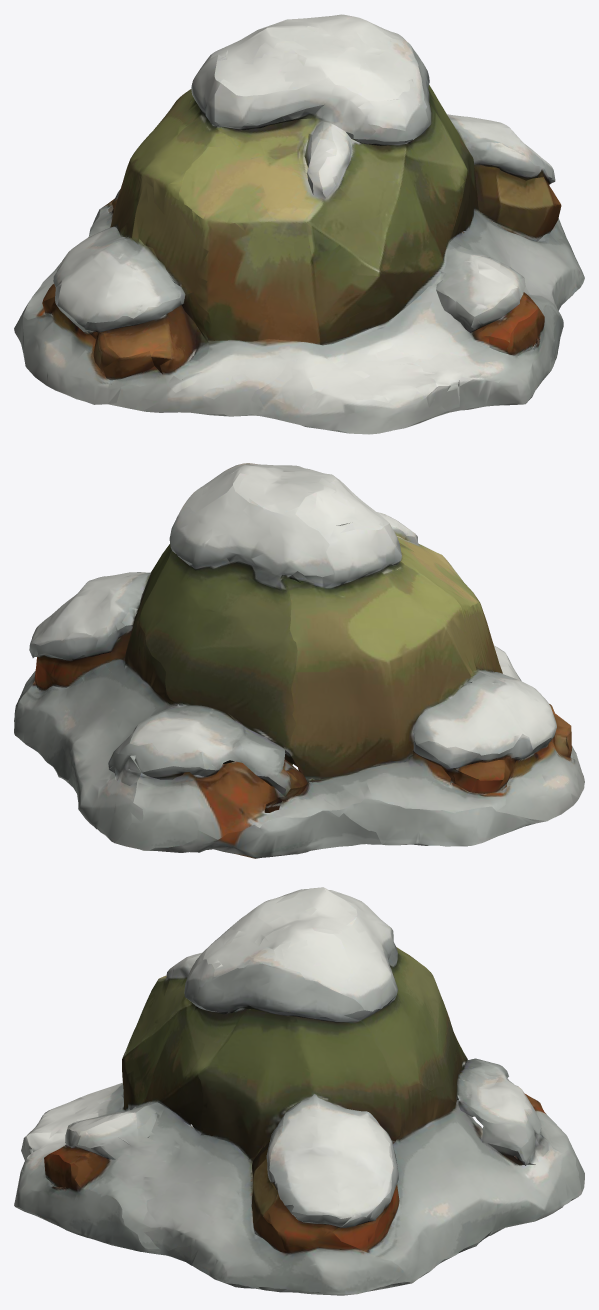
File: snow_pile.glb
3 renders of one model, top to bottom at view 1: azimuth 30°, elevation 25°; view 2: azimuth 150°, elevation 25°; view 3: azimuth 270°, elevation 25°, orthographic. The views are drawn at different scales.
Parts seen in each view (by area): view 1: snow_pile; view 2: snow_pile; view 3: snow_pile.
Part boxes in pixels (x1,y1,x2,y2): snow_pile: [14, 14, 584, 434]; snow_pile: [14, 463, 584, 858]; snow_pile: [14, 887, 584, 1295].
Bounding box in the file's own units: 1.2 × 0.6065 × 1.14.
Materials: 1 (1 with a texture image).
